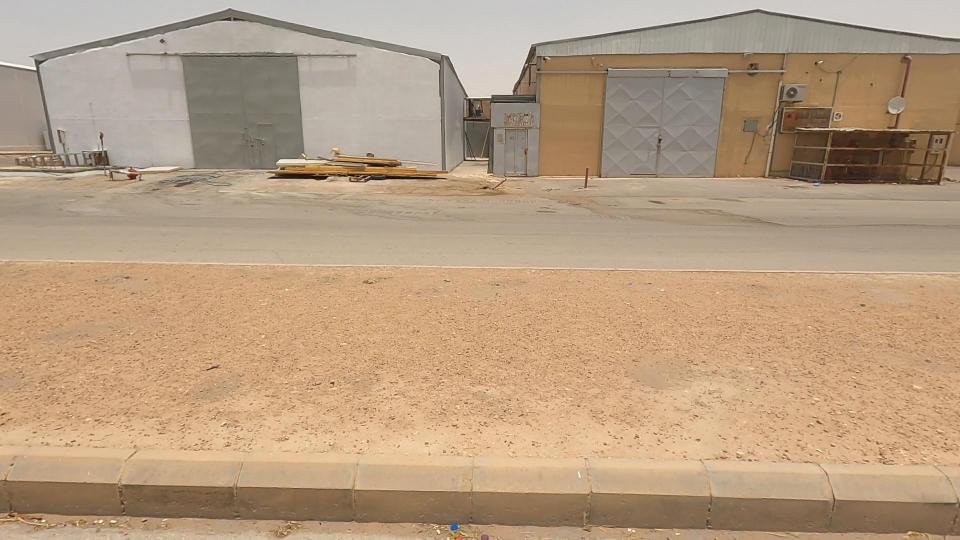CLUTTER_SIDEWALK: (269, 188, 960, 534), (0, 178, 477, 540)
GARBAGE: (183, 92, 521, 242)
